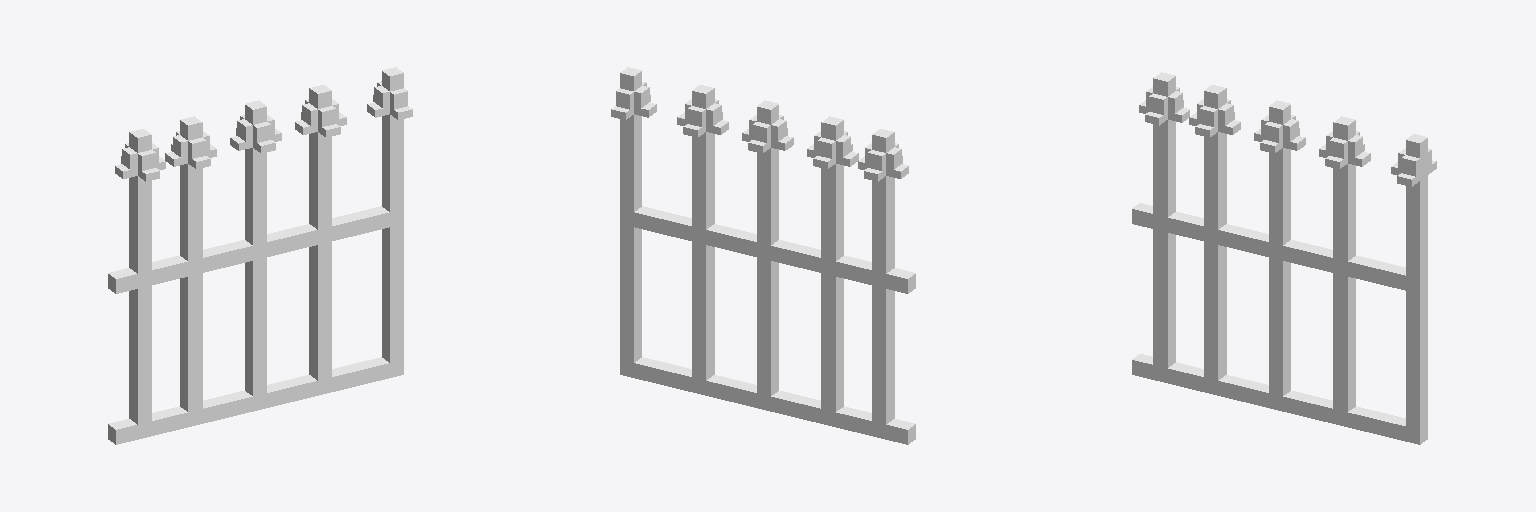
File: TopFencesLeft.obj
The picture shows the model from 3 angles: view 1: azimuth 30°, elevation 25°; view 2: azimuth 150°, elevation 25°; view 3: azimuth 330°, elevation 25°; orthographic projection.
Visible parts, largest first — view 1: object 1; view 2: object 1; view 3: object 1.
Part boxes in pixels (x1,y1,x2,y2): object 1: (108, 67, 412, 444); object 1: (611, 67, 915, 444); object 1: (1132, 72, 1436, 444).
Bounding box in the file's own units: 4 × 4 × 0.6.